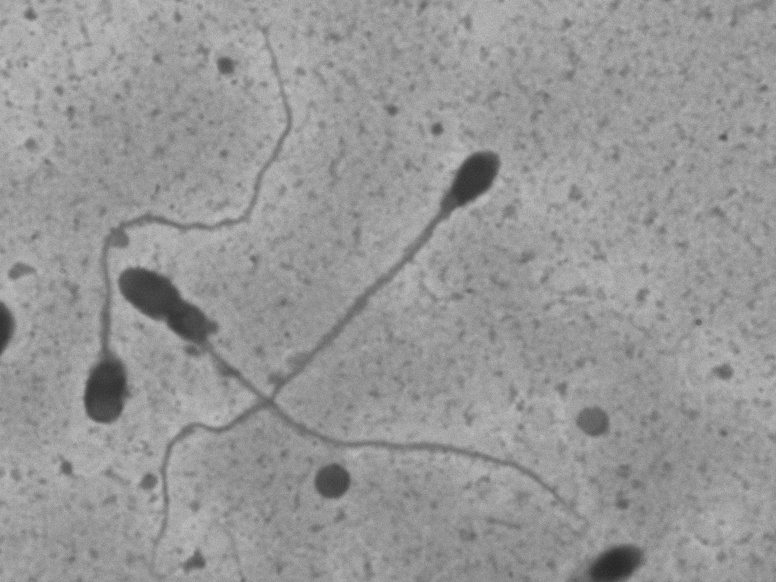Abnormal: (66, 6, 323, 439), (367, 91, 539, 338), (107, 242, 261, 398)
